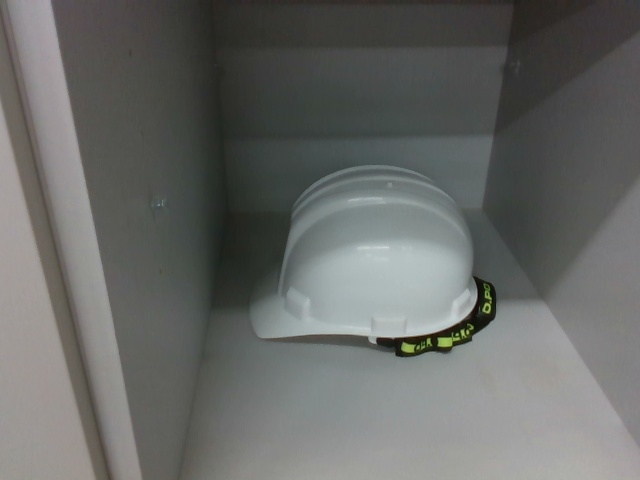helmet: (240, 159, 501, 360)
